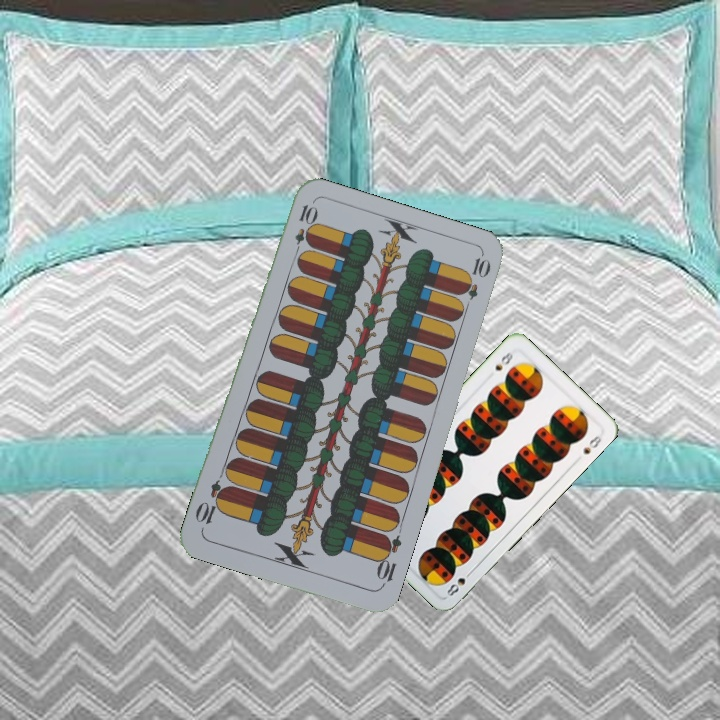E10: (372, 531, 405, 590), (290, 200, 318, 259)
S8: (442, 566, 476, 599), (491, 348, 515, 373)
